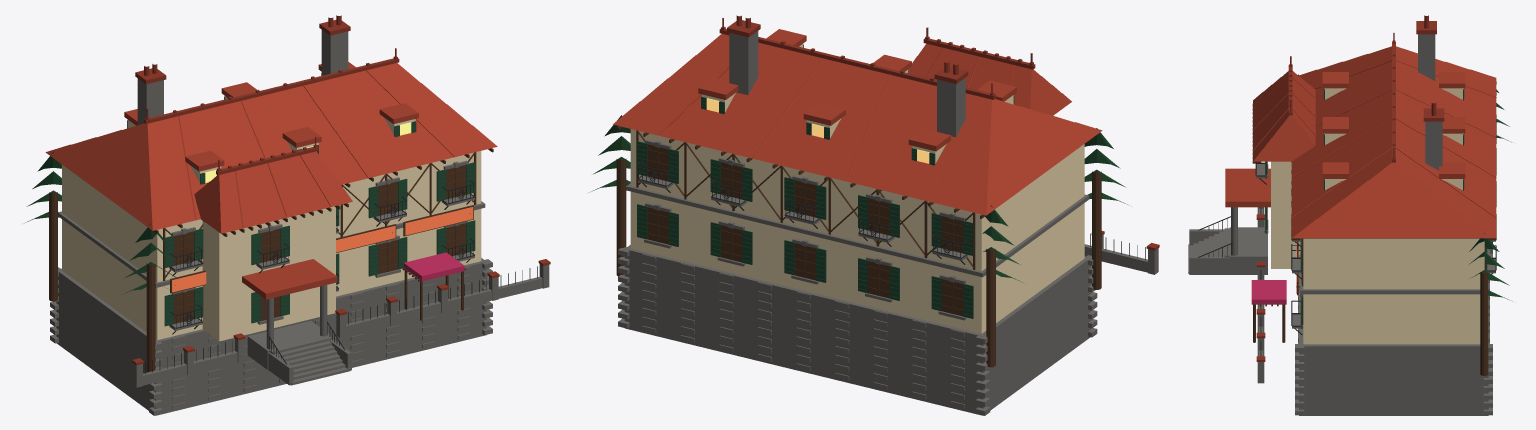
File: fv_hb_04_truong_cong_dinh_upper_stepped_shophouses.glb
3 views of the same model, side by side, from view 1: azimuth 30°, elevation 25°; view 2: azimuth 150°, elevation 25°; view 3: azimuth 270°, elevation 25° (orthographic). The views are drawn at different scales.
Visible parts, largest first — view 1: marseille_corrugated_roof_tiles, granite_foundation_and_stairs, stucco_facade_and_dormers, colombage_timber_and_eaves, pine_green_louvered_shutters, ridge_cresting_and_chimneys, wrought_iron_balconies_3d, heritage_and_hoa_binh_signboards, pine_trees_and_garden_hedges, bougainvillea_pergola_clusters; view 2: granite_foundation_and_stairs, marseille_corrugated_roof_tiles, stucco_facade_and_dormers, colombage_timber_and_eaves, pine_green_louvered_shutters, ridge_cresting_and_chimneys, pine_trees_and_garden_hedges, wrought_iron_balconies_3d; view 3: marseille_corrugated_roof_tiles, granite_foundation_and_stairs, stucco_facade_and_dormers, colombage_timber_and_eaves, ridge_cresting_and_chimneys, bougainvillea_pergola_clusters, wrought_iron_balconies_3d, pine_trees_and_garden_hedges, pine_green_louvered_shutters.
Part boxes in pixels (left/top/right/bottom): marseille_corrugated_roof_tiles: left=45, top=62, right=497, bottom=299; granite_foundation_and_stairs: left=50, top=30, right=549, bottom=415; stucco_facade_and_dormers: left=62, top=96, right=481, bottom=341; colombage_timber_and_eaves: left=49, top=148, right=493, bottom=372; pine_green_louvered_shutters: left=127, top=73, right=475, bottom=326; ridge_cresting_and_chimneys: left=132, top=15, right=550, bottom=365; wrought_iron_balconies_3d: left=145, top=180, right=537, bottom=374; heritage_and_hoa_binh_signboards: left=172, top=207, right=473, bottom=292; pine_trees_and_garden_hedges: left=24, top=152, right=180, bottom=294; bougainvillea_pergola_clusters: left=403, top=252, right=464, bottom=281; granite_foundation_and_stairs: left=618, top=31, right=1158, bottom=415; marseille_corrugated_roof_tiles: left=613, top=29, right=1102, bottom=215; stucco_facade_and_dormers: left=630, top=44, right=1084, bottom=333; colombage_timber_and_eaves: left=616, top=126, right=1101, bottom=367; pine_green_louvered_shutters: left=637, top=44, right=1014, bottom=318; ridge_cresting_and_chimneys: left=719, top=15, right=1159, bottom=250; pine_trees_and_garden_hedges: left=589, top=115, right=1127, bottom=282; wrought_iron_balconies_3d: left=637, top=161, right=1145, bottom=264; marseille_corrugated_roof_tiles: left=1225, top=46, right=1496, bottom=238; granite_foundation_and_stairs: left=1188, top=34, right=1495, bottom=415; stucco_facade_and_dormers: left=1271, top=88, right=1484, bottom=344; colombage_timber_and_eaves: left=1252, top=81, right=1496, bottom=375; ridge_cresting_and_chimneys: left=1256, top=15, right=1444, bottom=361; bougainvillea_pergola_clusters: left=1251, top=280, right=1286, bottom=304; wrought_iron_balconies_3d: left=1198, top=119, right=1496, bottom=355; pine_trees_and_garden_hedges: left=1298, top=74, right=1512, bottom=301; pine_green_louvered_shutters: left=1265, top=88, right=1487, bottom=328.
Size of the model in its own units: 28.12 by 18.63 by 20.56.
